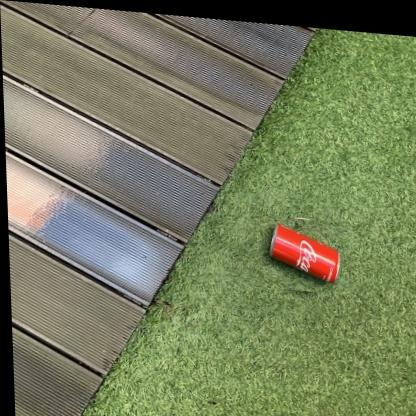trash: (271, 224, 339, 282)
